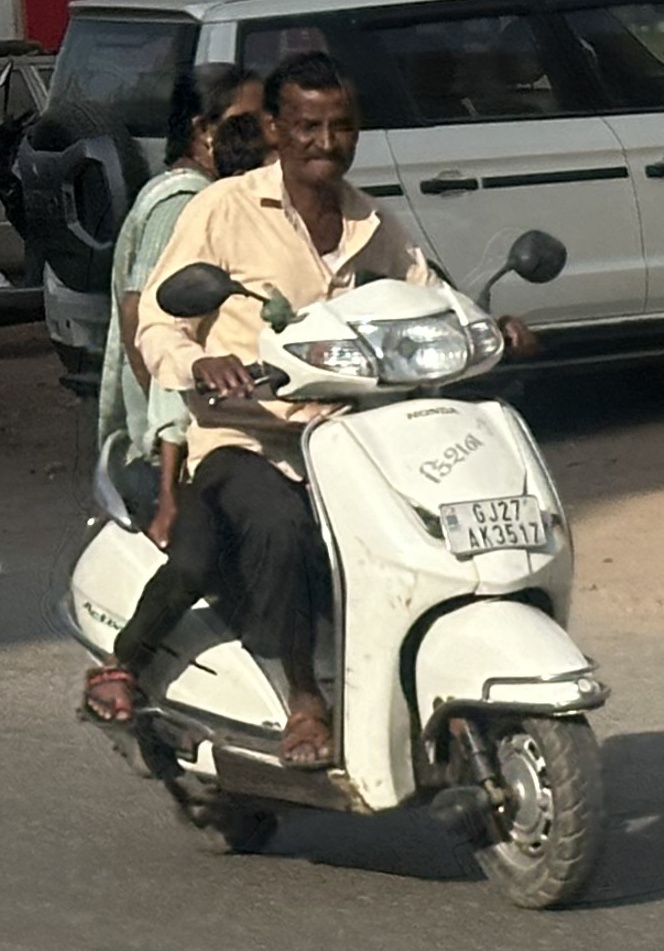BikeWithRider: (48, 46, 615, 917)
NoHelmet: (163, 53, 266, 182), (267, 56, 365, 179), (203, 107, 286, 198)
